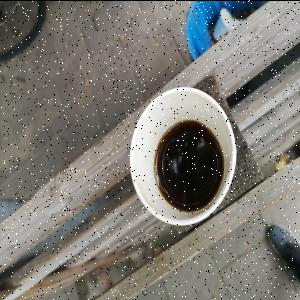Cup: (130, 87, 238, 228)
